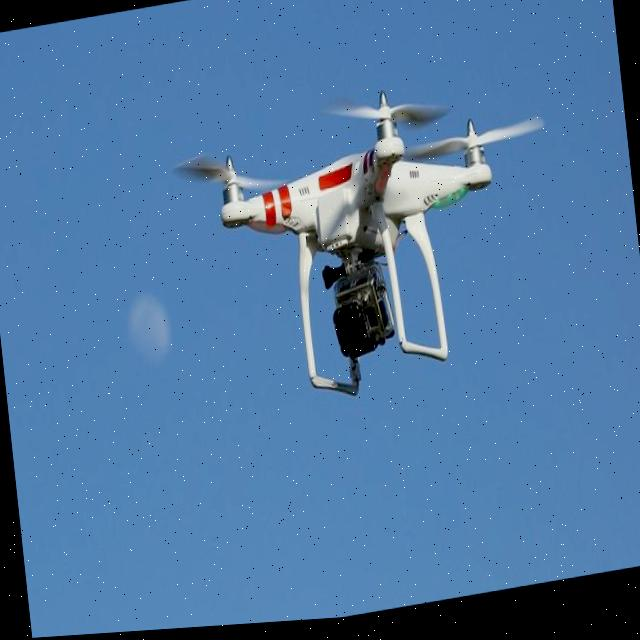drone: (142, 29, 580, 442)
